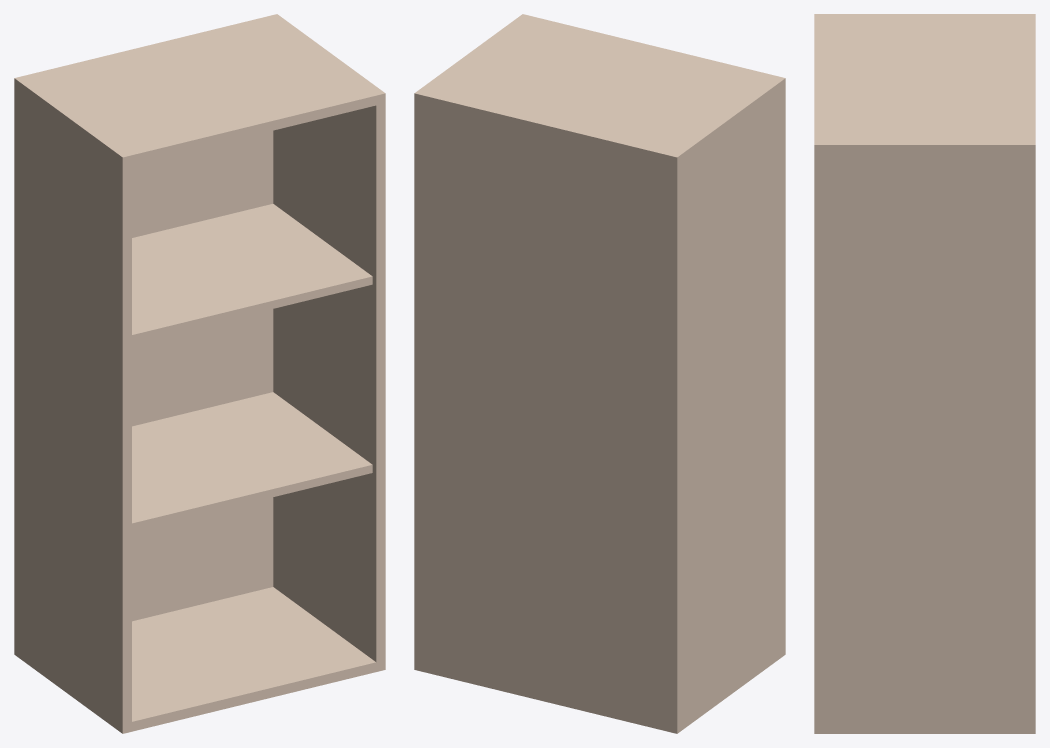
3 renders of one model, left to right at view 1: azimuth 30°, elevation 25°; view 2: azimuth 150°, elevation 25°; view 3: azimuth 270°, elevation 25°, orthographic. The views are drawn at different scales.
Parts seen in each view (by area): view 1: Body; view 2: Body; view 3: Body.
Part boxes in pixels (x1,y1,x2,y2): Body: (14,14,385,733); Body: (414,14,785,733); Body: (814,14,1035,733).
Bounding box in the file's own units: 0.42 × 0.88 × 0.3.
